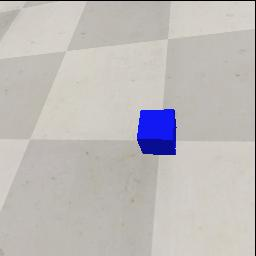box: (137, 109, 176, 155)
